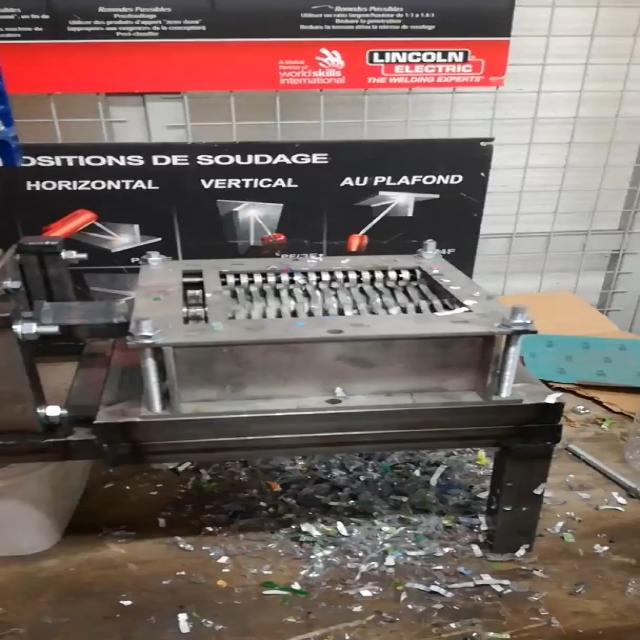Broyeur: (124, 255, 533, 344)
